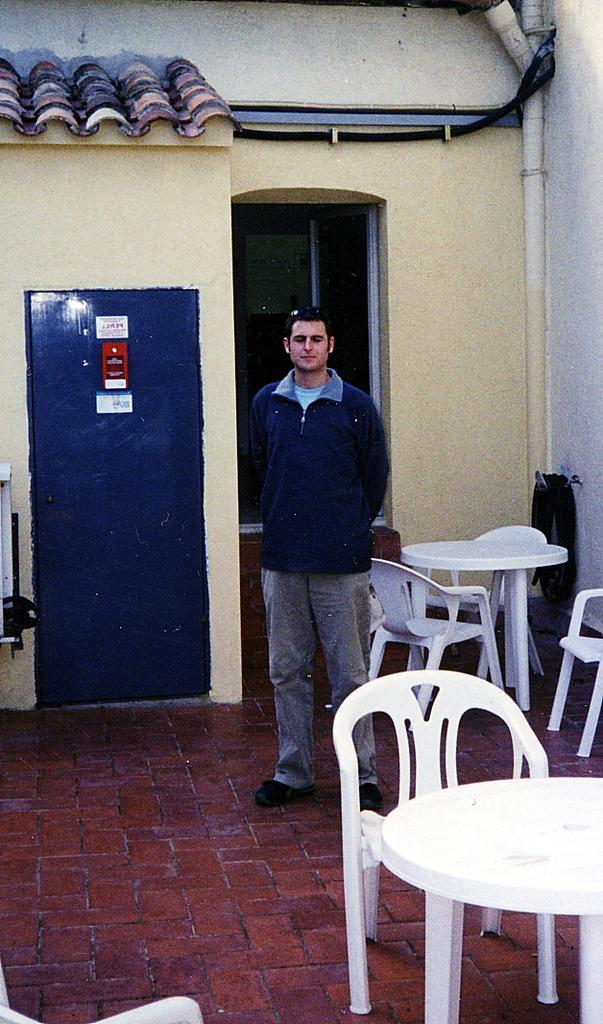door: (38, 296, 198, 716)
